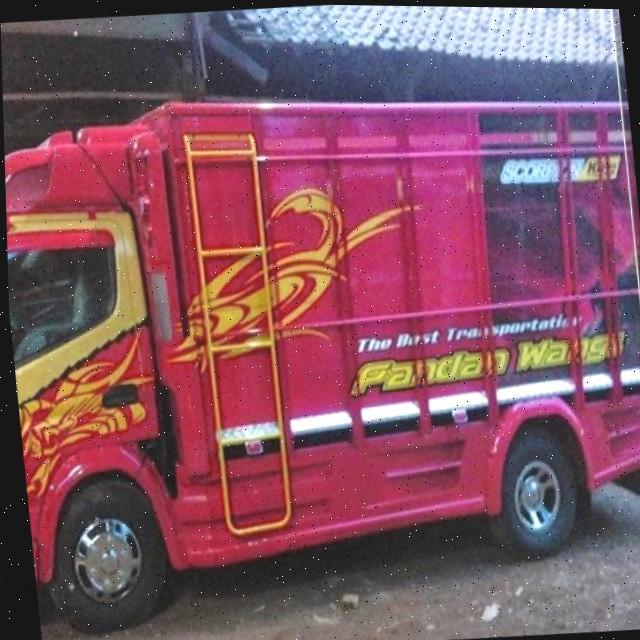truck: (2, 69, 640, 633)
